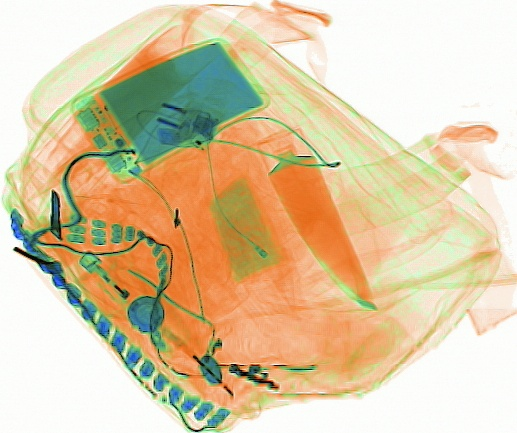lighter: (76, 251, 147, 319)
